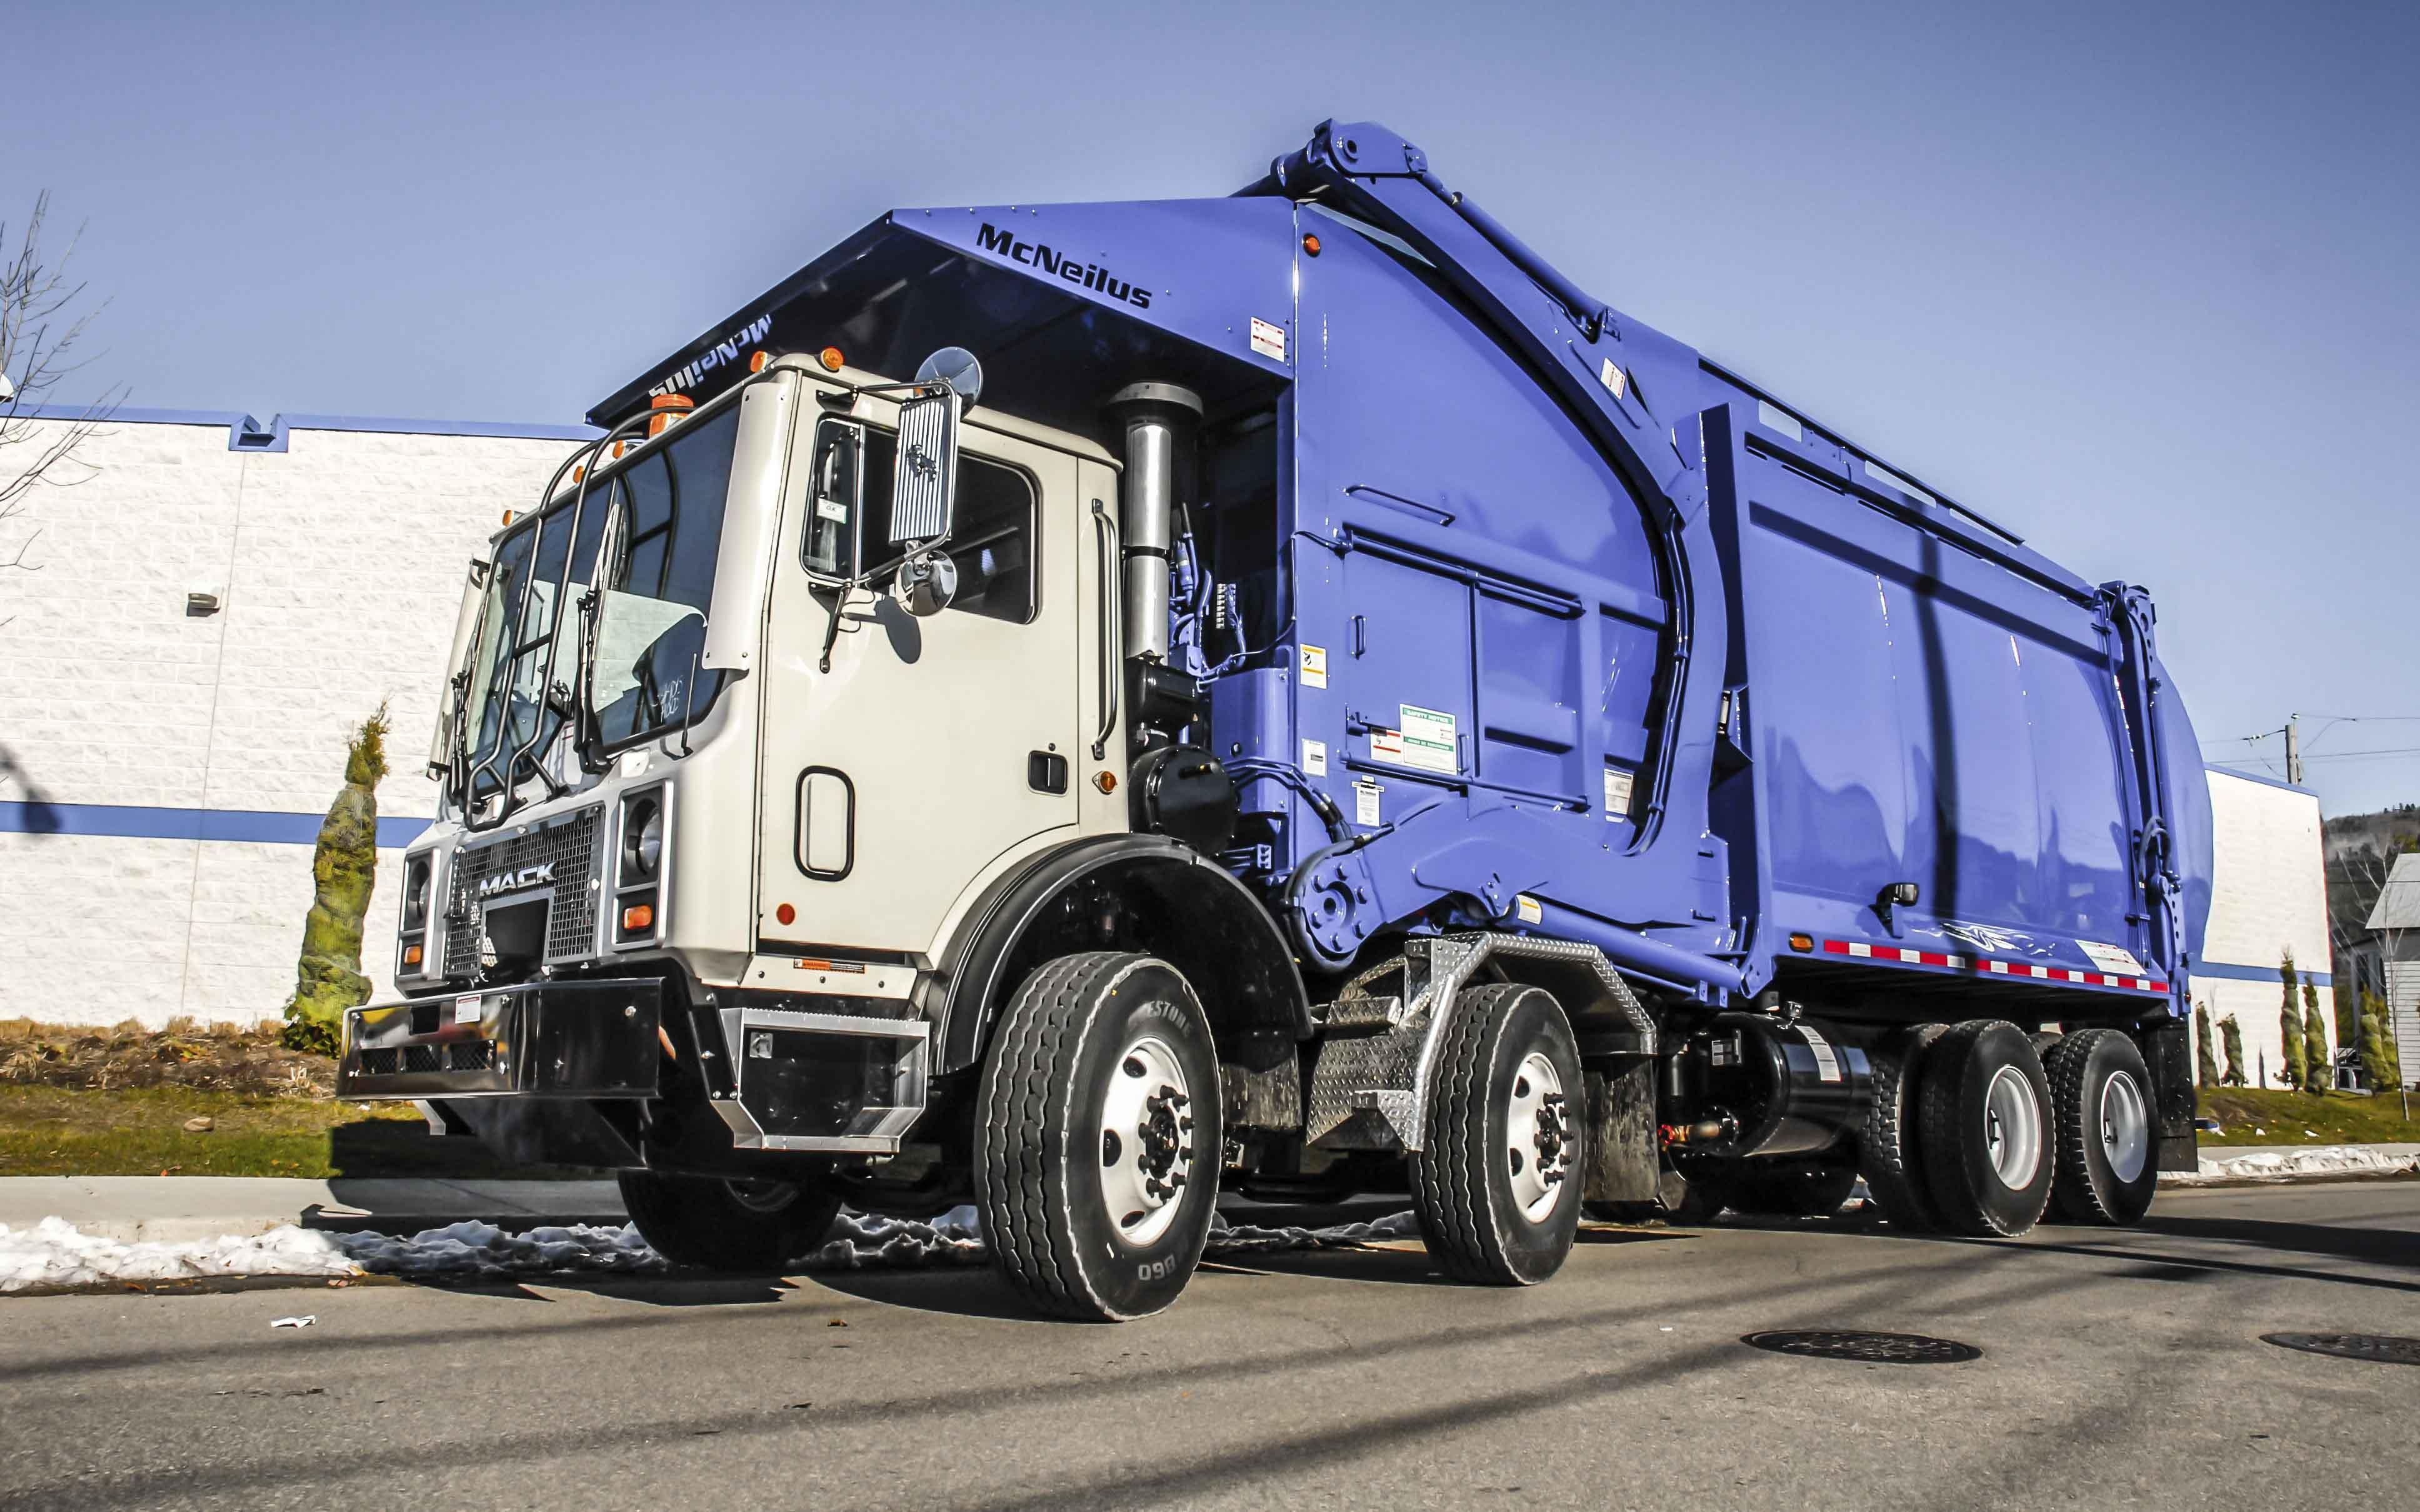truck: (268, 84, 2232, 1299)
